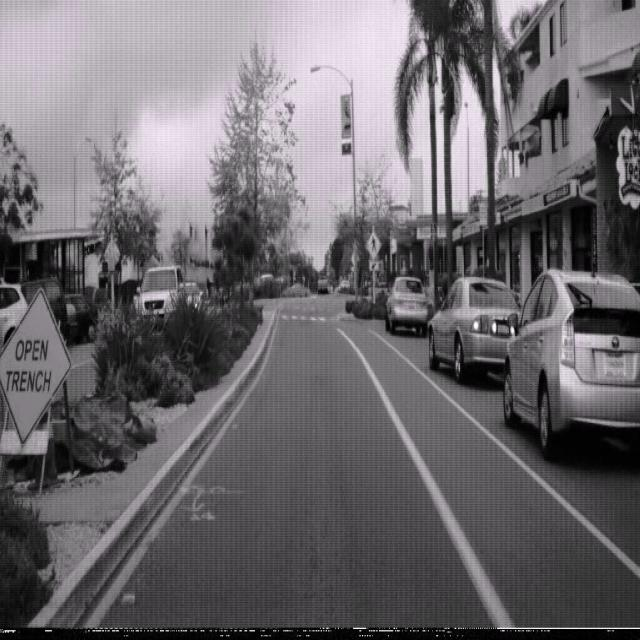pedestrianCrossing: (364, 228, 382, 261)
